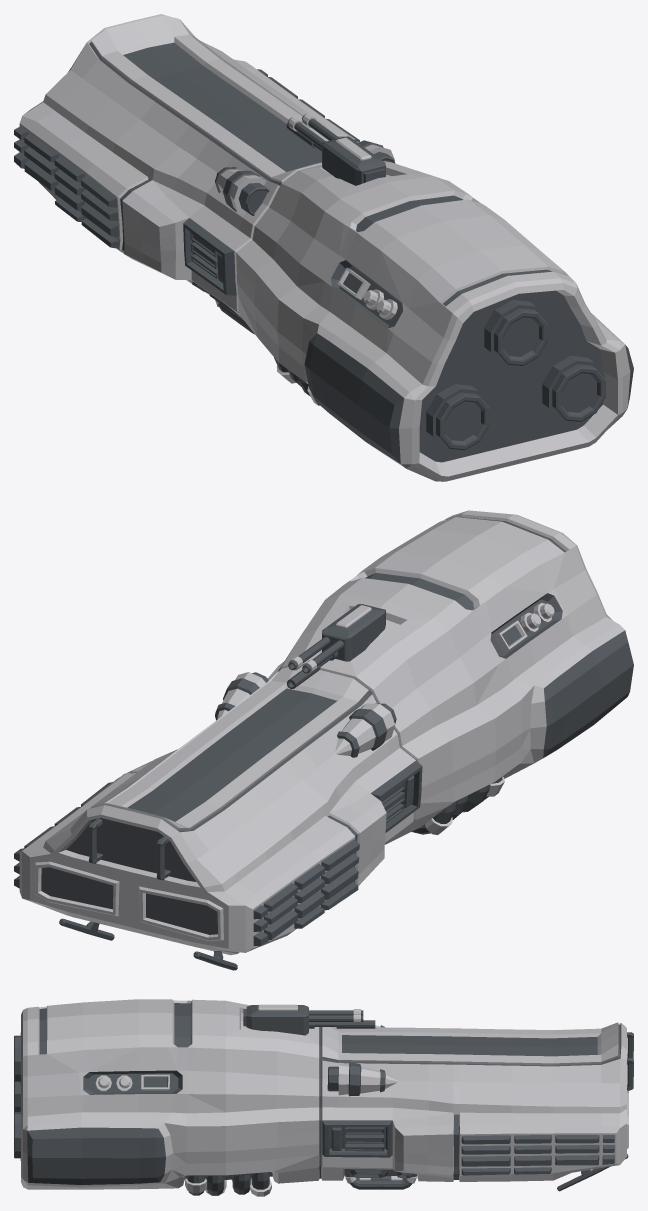
The model's file is Dropship_03_Neutral.fbx.
3 views of the same model, one above another, from view 1: azimuth 30°, elevation 25°; view 2: azimuth 150°, elevation 25°; view 3: azimuth 270°, elevation 25° (orthographic). The views are drawn at different scales.
Parts seen in each view (by area): view 1: Dropship_03_Neutral; view 2: Dropship_03_Neutral; view 3: Dropship_03_Neutral.
Boxes of the visible parts, box(x1,y1,x2,y2) form: Dropship_03_Neutral: box(14, 14, 633, 481); Dropship_03_Neutral: box(14, 510, 633, 970); Dropship_03_Neutral: box(14, 999, 633, 1196).
Size of the model in its own units: 395 by 322 by 1085.
Materials: 2 (2 with a texture image).
